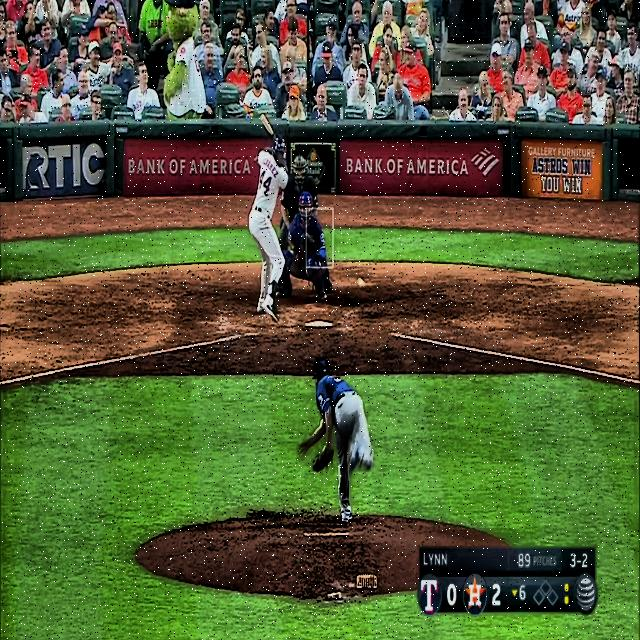baseball: (357, 276, 365, 289)
